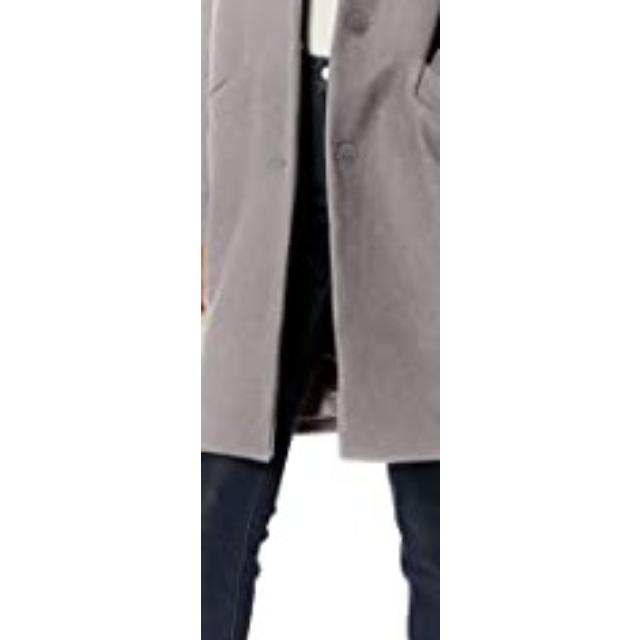wool: (200, 0, 440, 454)
